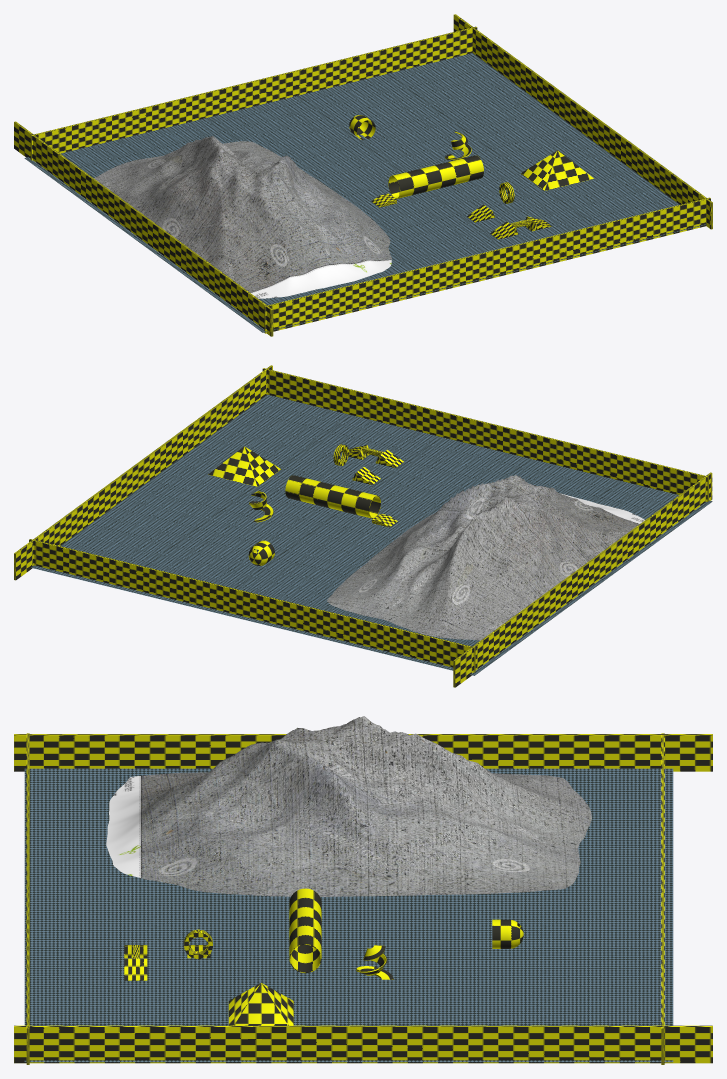
Rendered from escenario5.fbx.
3 renders of one model, top to bottom at view 1: azimuth 30°, elevation 25°; view 2: azimuth 150°, elevation 25°; view 3: azimuth 270°, elevation 25°, orthographic. The views are drawn at different scales.
Visible parts, largest first — view 1: Pyramid_1; view 2: Pyramid_1; view 3: Pyramid_1.
Boxes of the visible parts, box(x1,y1,x2,y2) form: Pyramid_1: box(14, 14, 712, 336); Pyramid_1: box(14, 365, 712, 687); Pyramid_1: box(14, 716, 712, 1064).
Bounding box in the file's own units: 24151 × 4330 × 23961.
7 materials, 7 textured.
